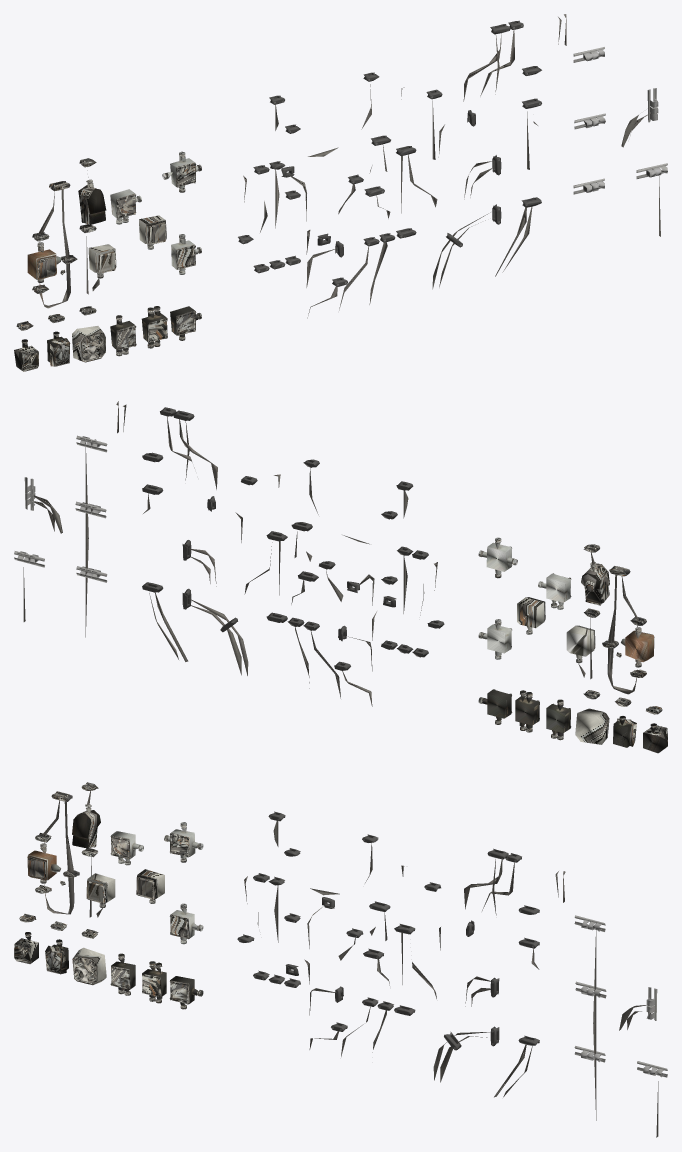
The model's file is modular_electric_cables.glb.
3 views of the same model, one above another, from view 1: azimuth 30°, elevation 25°; view 2: azimuth 150°, elevation 25°; view 3: azimuth 330°, elevation 25° (orthographic).
Bounding box in the file's own units: 2.08 × 0.7573 × 0.2145.
2 materials, 2 textured.
